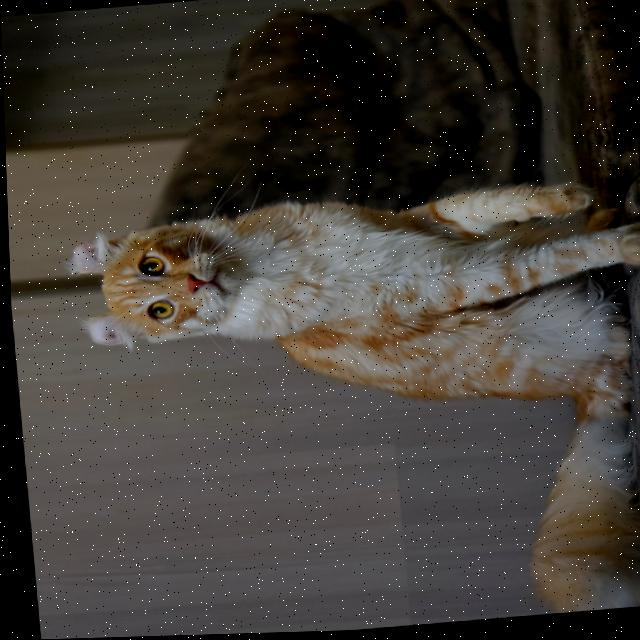American Curl: (50, 172, 640, 639)
